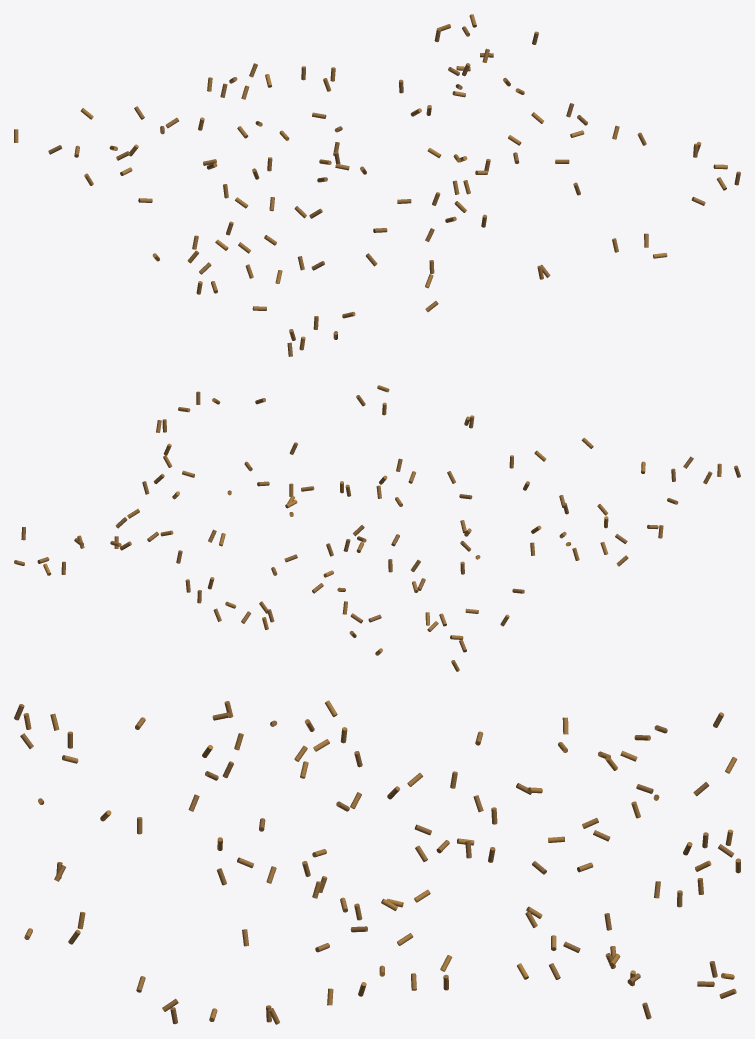
The model's file is choco_square1.glb.
The picture shows the model from 3 angles, top to bottom: view 1: azimuth 30°, elevation 25°; view 2: azimuth 150°, elevation 25°; view 3: azimuth 270°, elevation 25°; orthographic projection. The views are drawn at different scales.
Bounding box in the file's own units: 2.23 × 0.0525 × 2.19.
